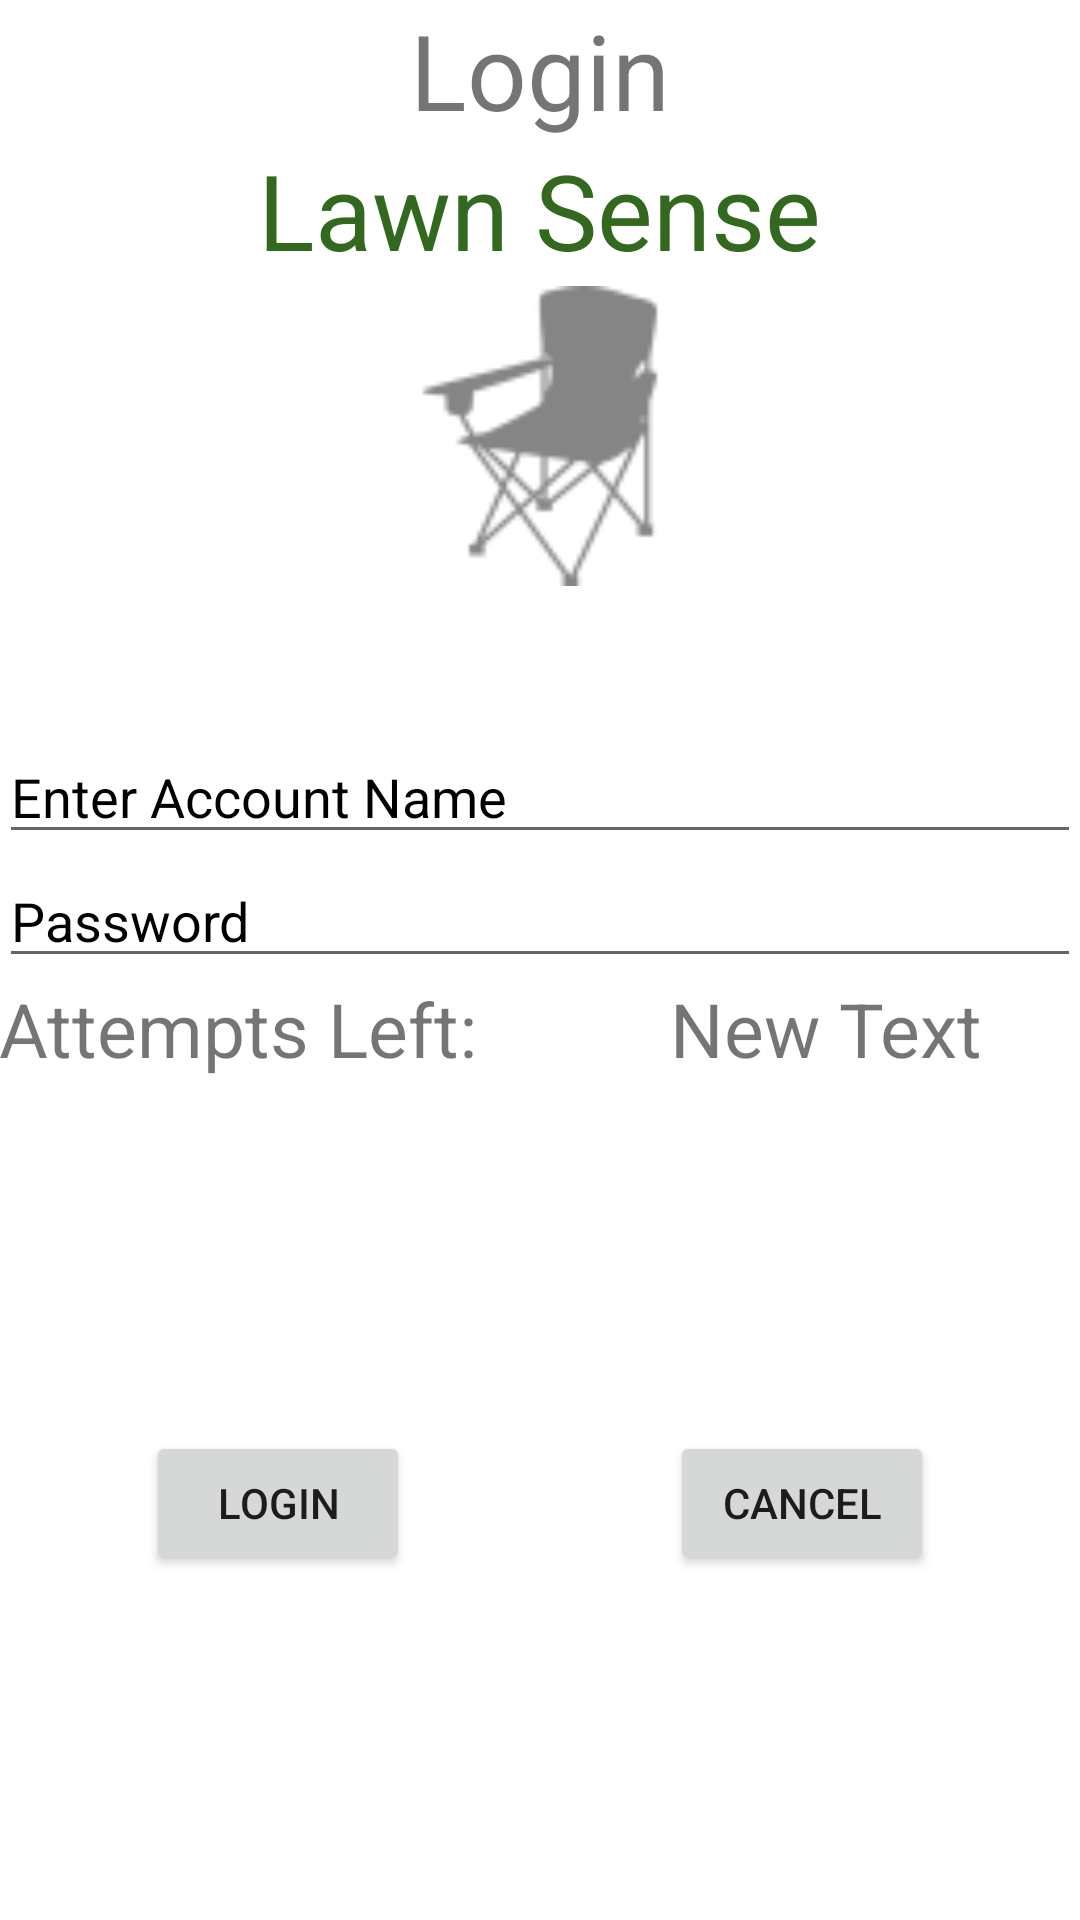

Where icons sit on this 1080 x 1920 app screen, as rect(x1, y1, x2, y2):
chair: rect(423, 286, 658, 586)
